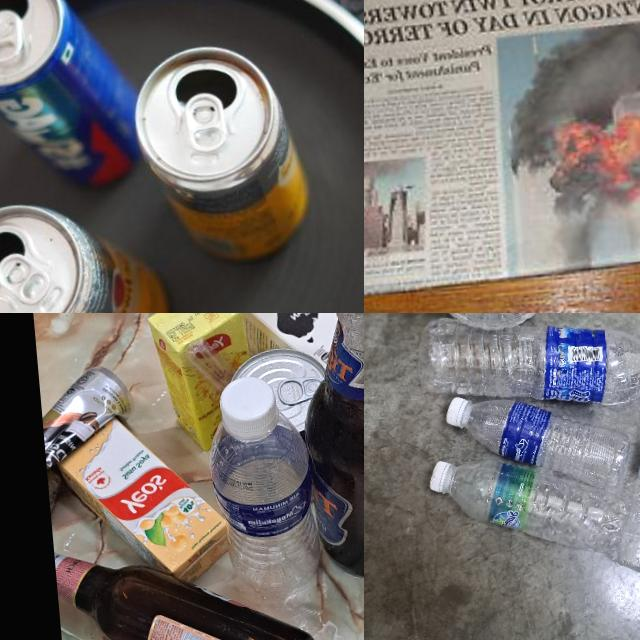aba de lata: (0, 250, 51, 305), (182, 88, 226, 150), (276, 372, 321, 404), (0, 6, 24, 61)
caixinha: (62, 406, 228, 586), (155, 313, 364, 381), (163, 313, 254, 448)
garrafa de vidro: (54, 530, 318, 640), (294, 313, 364, 579)
garrafa plástica: (410, 313, 640, 416), (212, 408, 318, 618), (458, 388, 640, 494), (439, 448, 607, 560), (599, 397, 640, 585)
lata: (130, 35, 313, 268), (0, 0, 145, 201), (0, 190, 175, 313), (38, 361, 138, 507), (222, 338, 332, 451)
papel: (364, 0, 640, 302)
tampa plástica: (218, 374, 280, 440), (434, 392, 464, 429), (424, 457, 451, 491)
